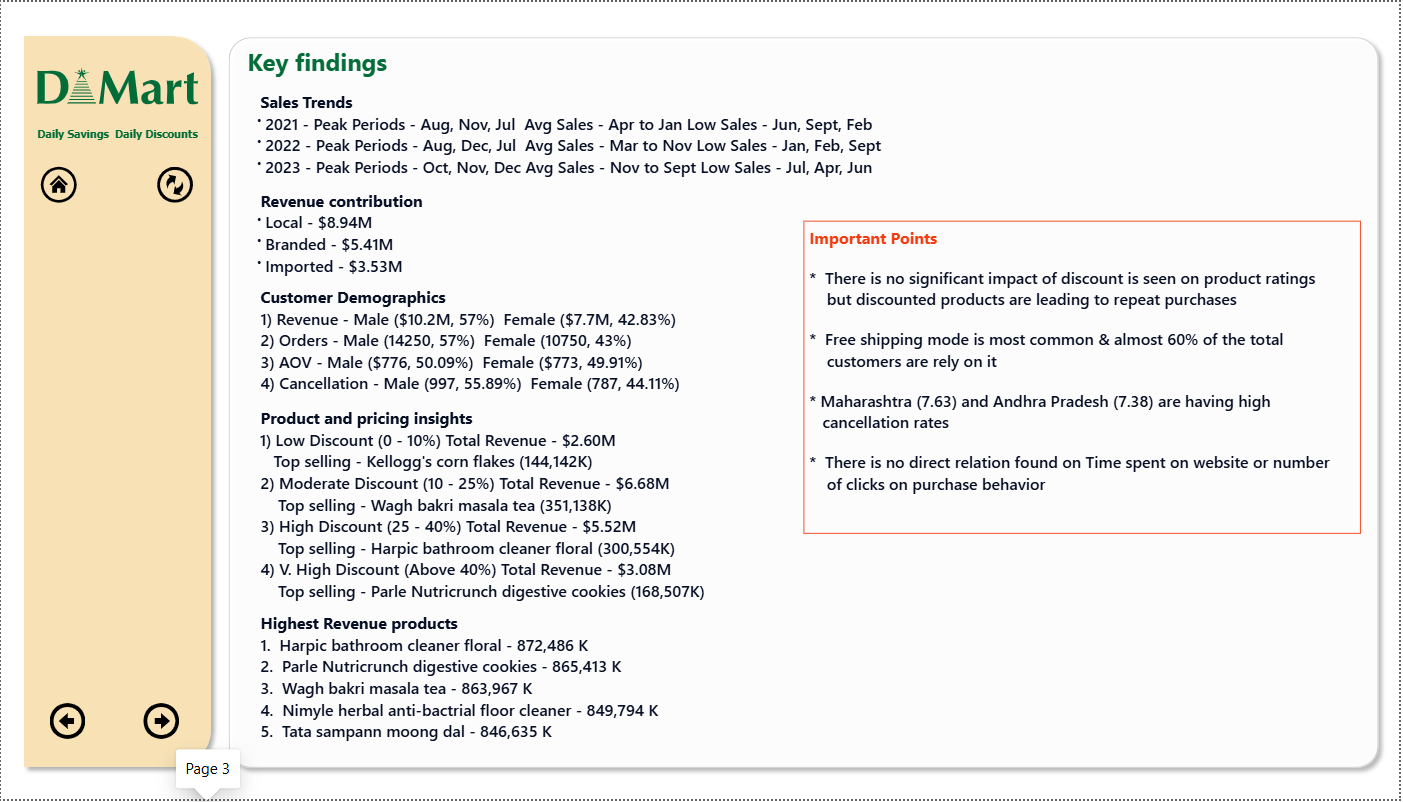

The dashboard page shown, as its layout file describes it:
{"tool":"powerbi","page":{"name":"Page 3","canvas":[1400,800],"ordinal":2},"visuals":[{"type":"shape","box":[13.5,25.5,205.6,750.4],"z":0},{"type":"image","box":[31.5,39,171.1,91.6],"z":1000},{"type":"textbox","box":[31.3,116.8,171.2,34],"z":2000},{"type":"image","box":[34.9,160.9,45.6,45.6],"z":3000},{"type":"image","box":[151.5,160.9,45.6,45.6],"z":4000},{"type":"image","box":[44.2,697.1,45.6,45.6],"z":5000},{"type":"image","box":[138.1,697.1,45.6,45.6],"z":6000},{"type":"shape","box":[218.8,25.8,1169.8,750],"z":7000},{"type":"textbox","box":[241.8,39.4,167.1,44.8],"z":8000},{"type":"textbox","box":[241.8,84.2,899.5,99.2],"z":9000},{"type":"textbox","box":[241.8,183.4,206.5,99.2],"z":10000},{"type":"textbox","box":[241.8,279.9,445.7,120.9],"z":11000},{"type":"textbox","box":[241.8,606,445.7,150.8],"z":12000},{"type":"textbox","box":[241.8,400.8,596.5,225.5],"z":13000},{"type":"textbox","box":[804.4,218.8,558.4,313.9],"z":14000}]}

Visuals, with their boxes in screenshot pixels (x1, y1, x2, y2), scaled from the page's 1400x800 canvas onto the 1403x802 screenshot:
shape: bbox=[14, 26, 220, 778]
image: bbox=[32, 39, 203, 131]
textbox: bbox=[31, 117, 203, 151]
image: bbox=[35, 161, 81, 207]
image: bbox=[152, 161, 198, 207]
image: bbox=[44, 699, 90, 745]
image: bbox=[138, 699, 184, 745]
shape: bbox=[219, 26, 1392, 778]
textbox: bbox=[242, 39, 410, 84]
textbox: bbox=[242, 84, 1144, 184]
textbox: bbox=[242, 184, 449, 283]
textbox: bbox=[242, 281, 689, 402]
textbox: bbox=[242, 608, 689, 759]
textbox: bbox=[242, 402, 840, 628]
textbox: bbox=[806, 219, 1366, 534]
